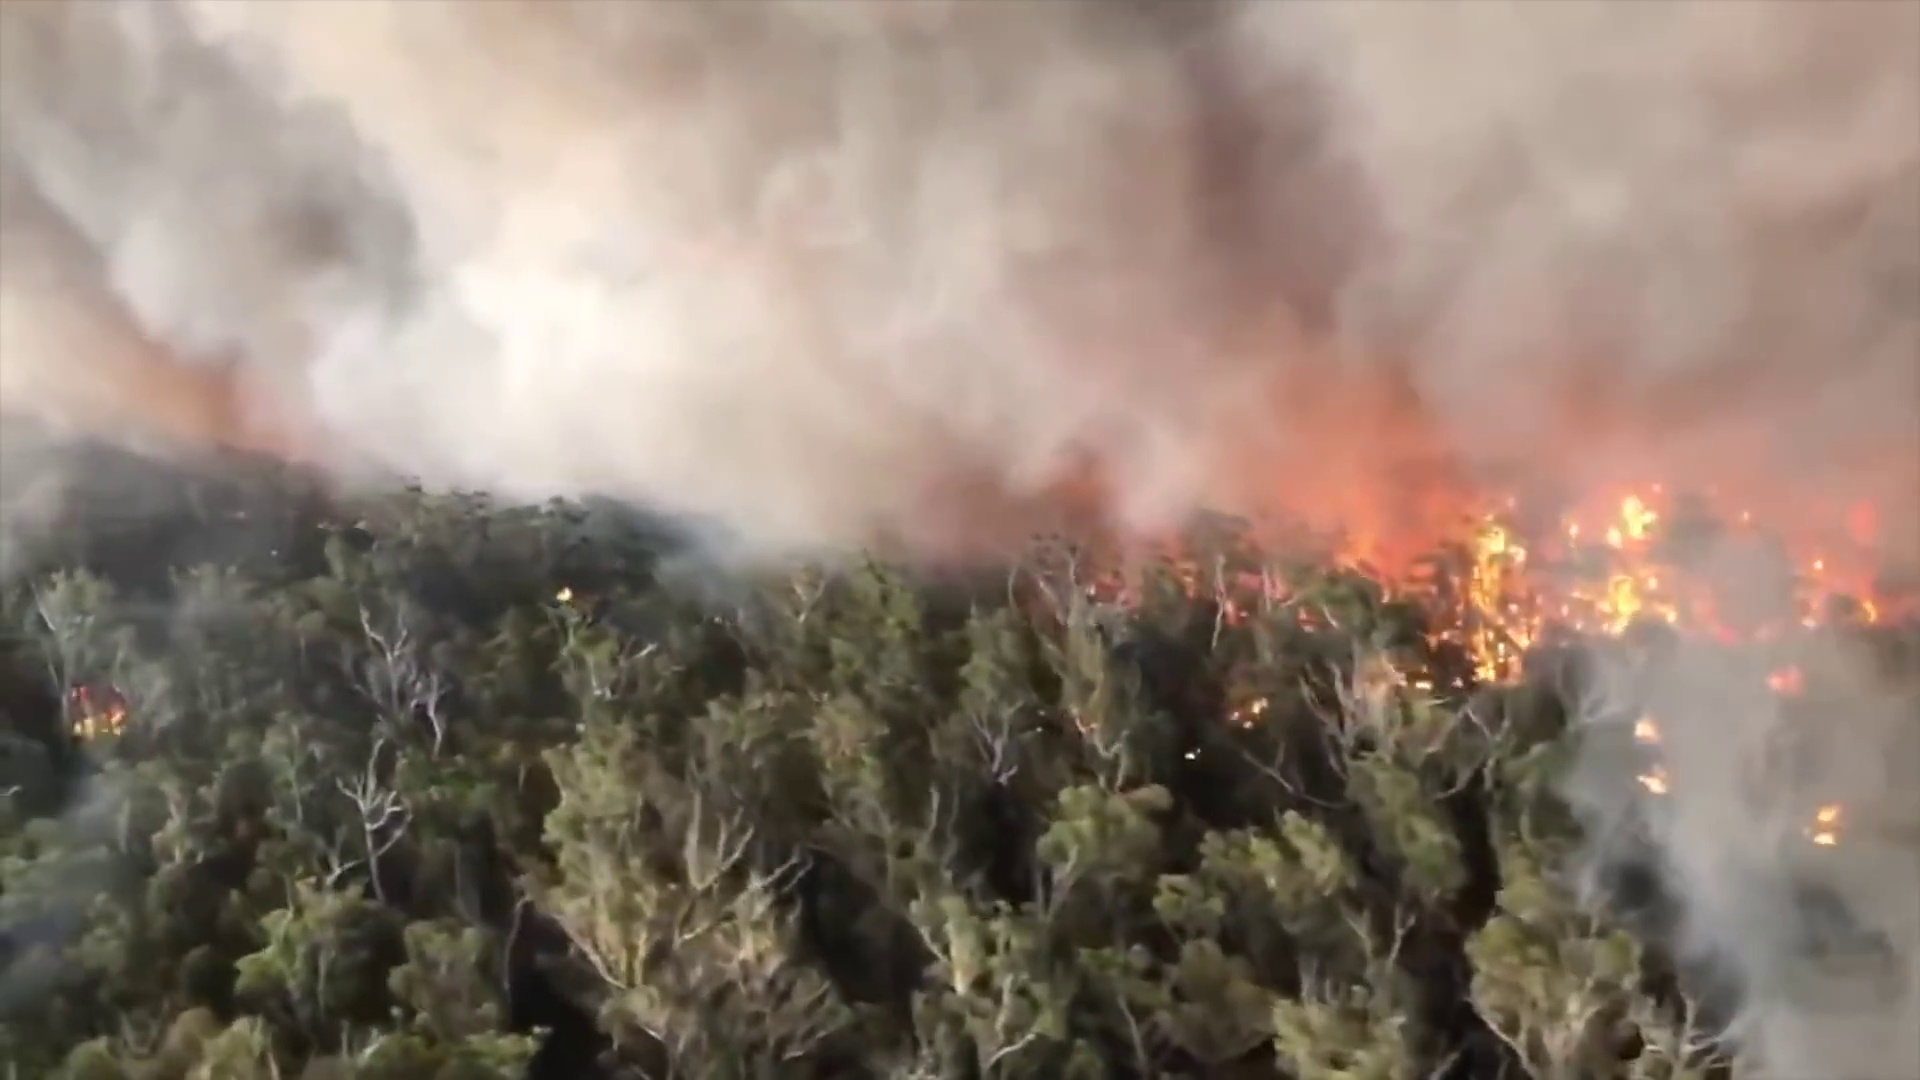fire: (1472, 525, 1507, 669), (1622, 492, 1651, 541), (1607, 576, 1636, 625), (1635, 713, 1654, 742), (1640, 771, 1662, 790), (1817, 829, 1837, 848), (1817, 806, 1836, 824), (556, 585, 572, 603)
